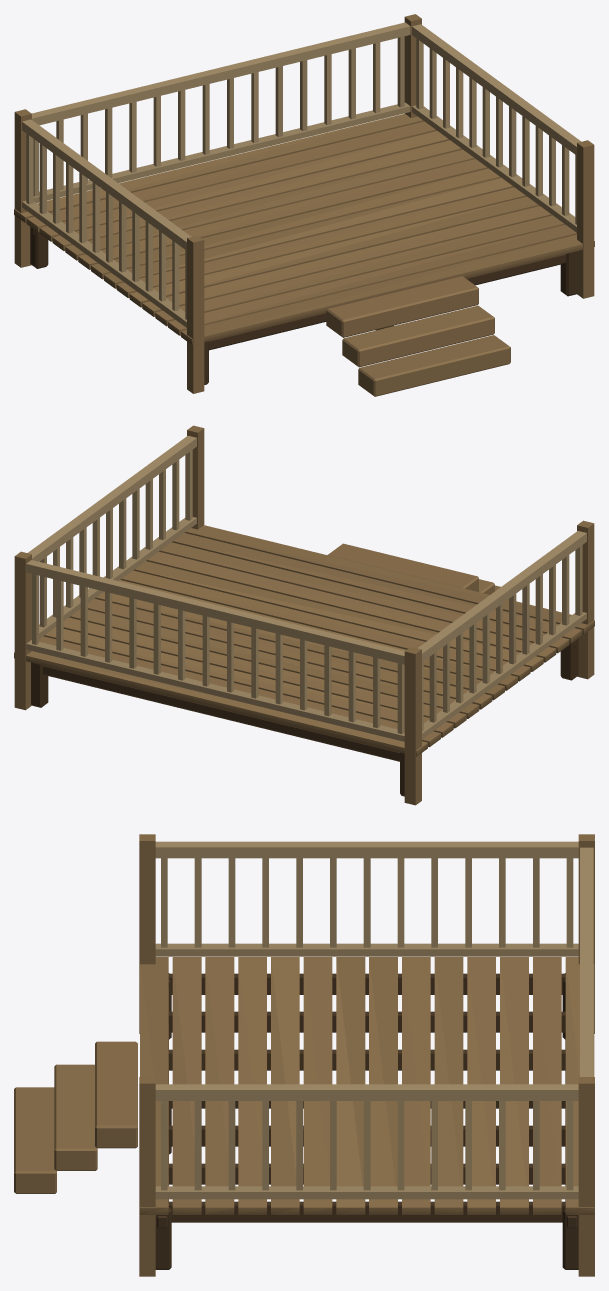
Rendered from backyard_deck.glb.
3 views of the same model, one above another, from view 1: azimuth 30°, elevation 25°; view 2: azimuth 150°, elevation 25°; view 3: azimuth 270°, elevation 25° (orthographic). The views are drawn at different scales.
Visible parts, largest first — view 1: backyard_deck; view 2: backyard_deck; view 3: backyard_deck.
Boxes of the visible parts, x1,y1,x2,y2 form: backyard_deck: [14, 14, 594, 396]; backyard_deck: [14, 425, 594, 805]; backyard_deck: [14, 834, 594, 1276].
Bounding box in the file's own units: 4.4 × 1.58 × 4.31.
